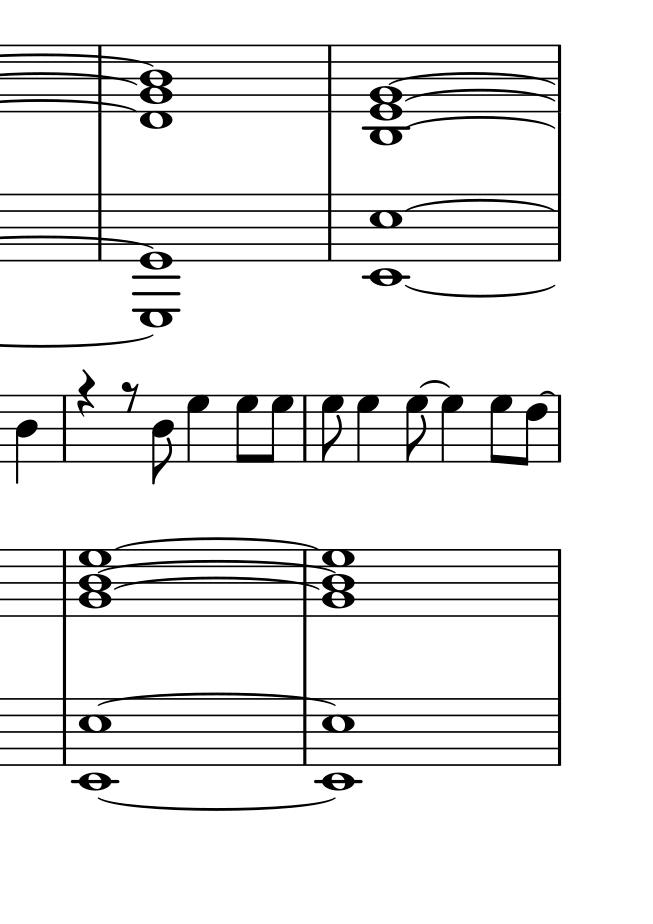1_-2_5: (362, 193, 410, 286), (315, 697, 363, 790), (73, 699, 121, 792)
1_-7_0: (132, 192, 183, 328)
1_th: (365, 44, 404, 145), (137, 44, 177, 131), (319, 547, 357, 618), (78, 547, 111, 618)
4_4: (12, 394, 37, 485)
4_7: (185, 393, 211, 466), (355, 394, 381, 464), (440, 394, 464, 464)
8_4: (148, 392, 176, 487)
8_6: (521, 393, 548, 469)
8_7: (402, 393, 435, 463), (264, 393, 295, 464), (486, 393, 515, 467), (319, 393, 348, 463), (235, 393, 260, 465)
Rests4: (74, 368, 99, 416)
Rests8: (117, 377, 142, 411)
Single_barline: (289, 700, 319, 767), (319, 193, 345, 262), (90, 193, 115, 261), (546, 395, 570, 461), (294, 550, 317, 617), (549, 549, 573, 613), (546, 699, 570, 763), (319, 46, 341, 113), (52, 698, 75, 762), (53, 549, 74, 617), (90, 45, 111, 113), (57, 395, 76, 461)
Slur: (96, 692, 342, 708), (113, 576, 320, 592), (98, 561, 338, 573), (97, 798, 336, 810), (111, 536, 317, 549), (390, 71, 557, 85), (405, 284, 555, 298), (406, 199, 552, 211), (407, 116, 552, 128), (407, 89, 562, 100), (419, 380, 451, 391)
